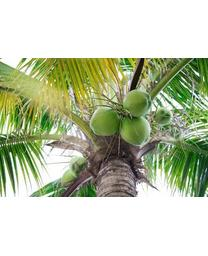coconut: (88, 105, 120, 138), (120, 116, 150, 143), (123, 89, 150, 117), (155, 107, 172, 126)
